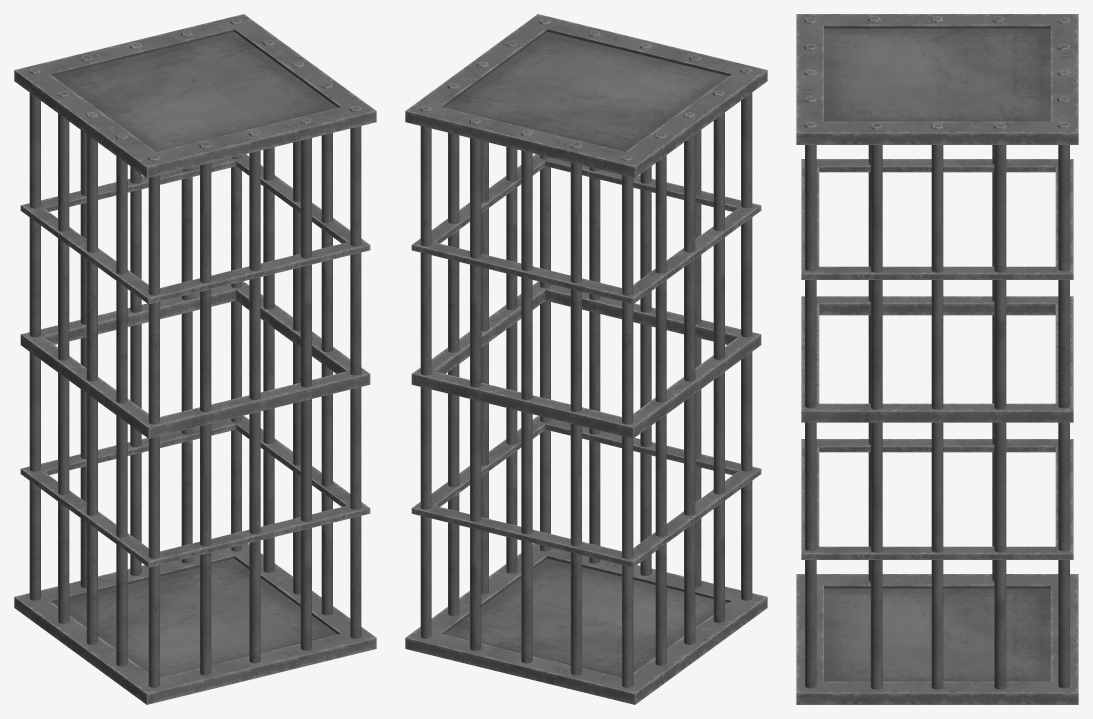
File: cage_metal_02.fbx
3 renders of one model, left to right at view 1: azimuth 30°, elevation 25°; view 2: azimuth 150°, elevation 25°; view 3: azimuth 270°, elevation 25°, orthographic. The views are drawn at different scales.
Parts seen in each view (by area): view 1: cage_metal_02; view 2: cage_metal_02; view 3: cage_metal_02.
Boxes of the visible parts, x1,y1,x2,y2 form: cage_metal_02: (14, 14, 376, 704); cage_metal_02: (405, 14, 767, 704); cage_metal_02: (796, 14, 1078, 704).
Size of the model in its own units: 224 by 503 by 224.
